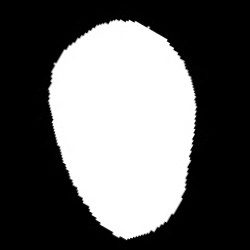spot: (48, 19, 197, 239)
